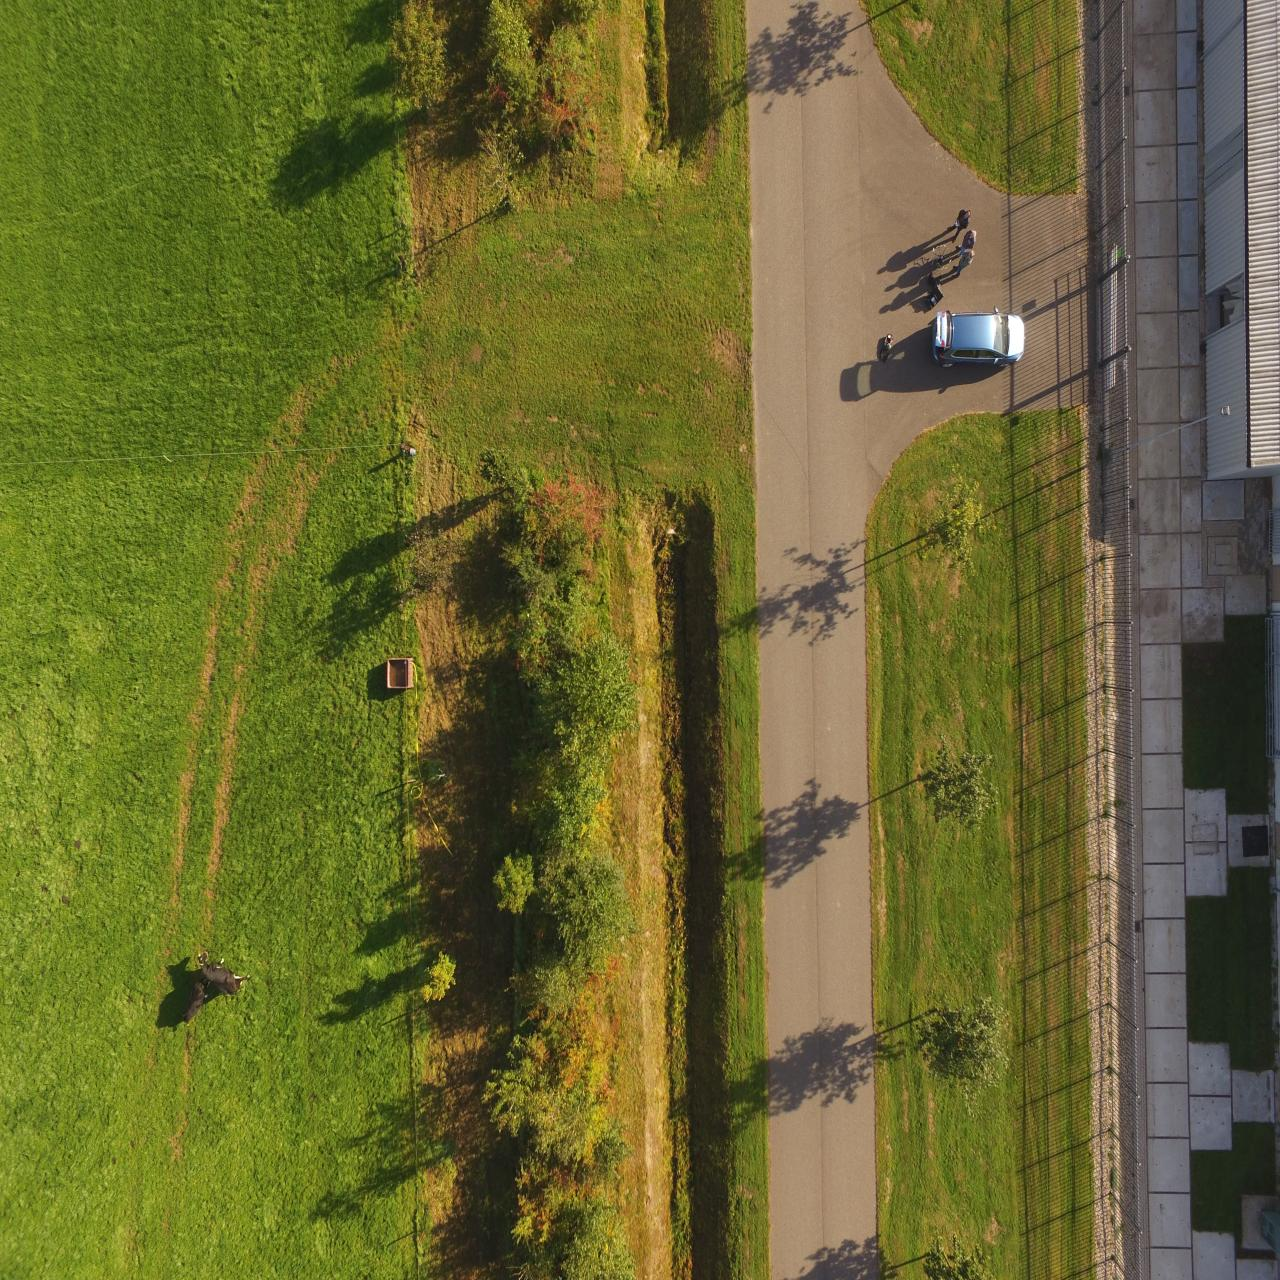cow: (190, 949, 254, 996), (183, 975, 210, 1027)
